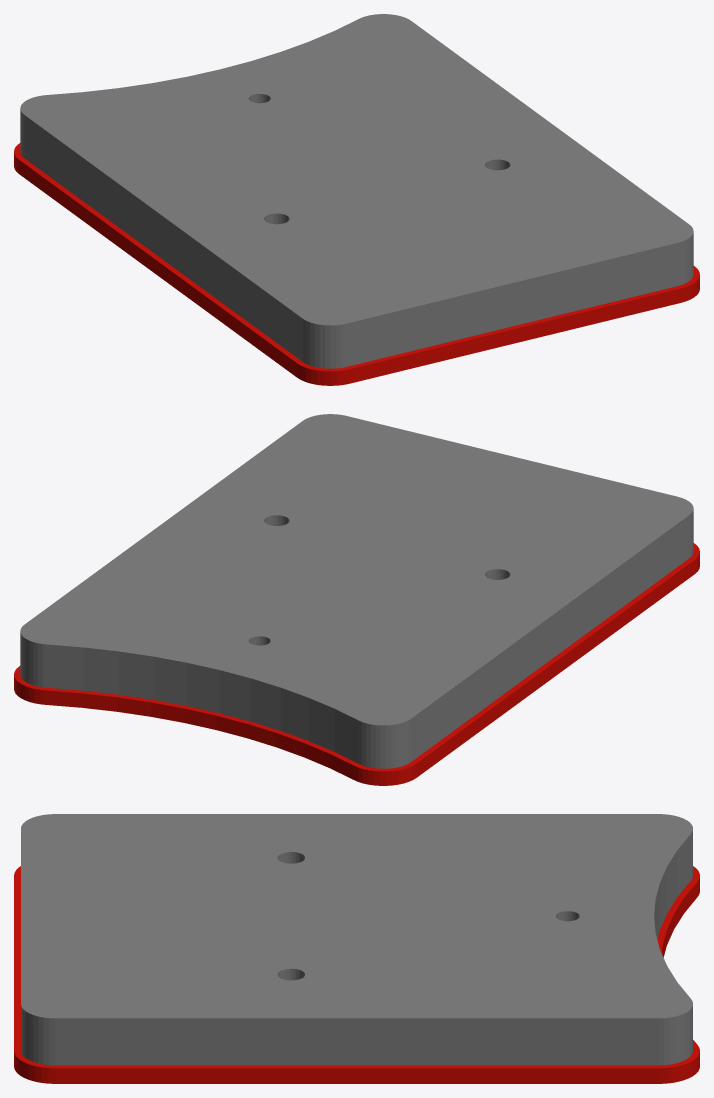
The model's file is DUCKTAIL BOARD.fbx.
3 renders of one model, top to bottom at view 1: azimuth 30°, elevation 25°; view 2: azimuth 150°, elevation 25°; view 3: azimuth 270°, elevation 25°, orthographic. The views are drawn at different scales.
Visible parts, largest first — view 1: DUCKTAIL BOARD.001; view 2: DUCKTAIL BOARD.001; view 3: DUCKTAIL BOARD.001.
Part boxes in pixels (x1,y1,x2,y2): DUCKTAIL BOARD.001: [14, 14, 699, 385]; DUCKTAIL BOARD.001: [14, 414, 699, 785]; DUCKTAIL BOARD.001: [14, 814, 699, 1083].
Bounding box in the file's own units: 14.4 × 2 × 19.86.
